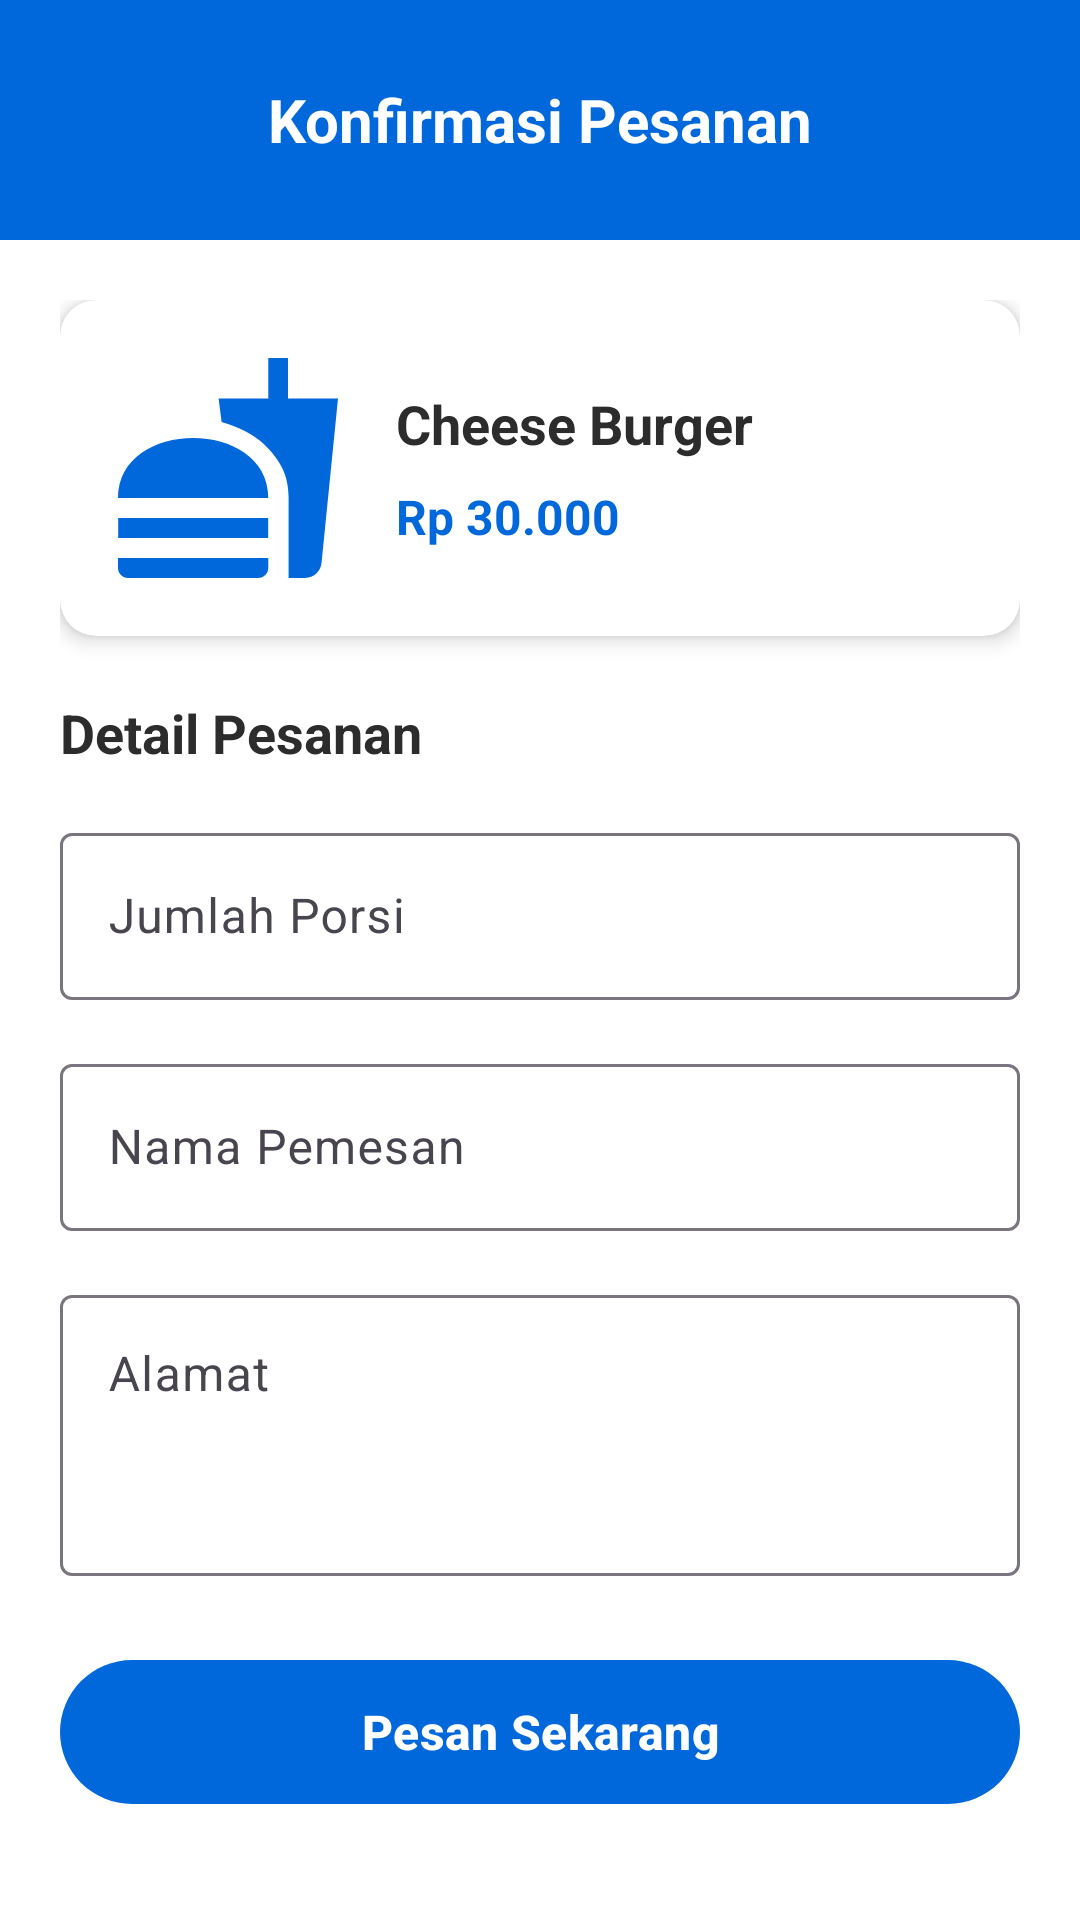

Screen size 1080*1920. Icon name, then its center in pixels as (x=x, y=y):
Gambar Makanan: (x=228, y=468)
